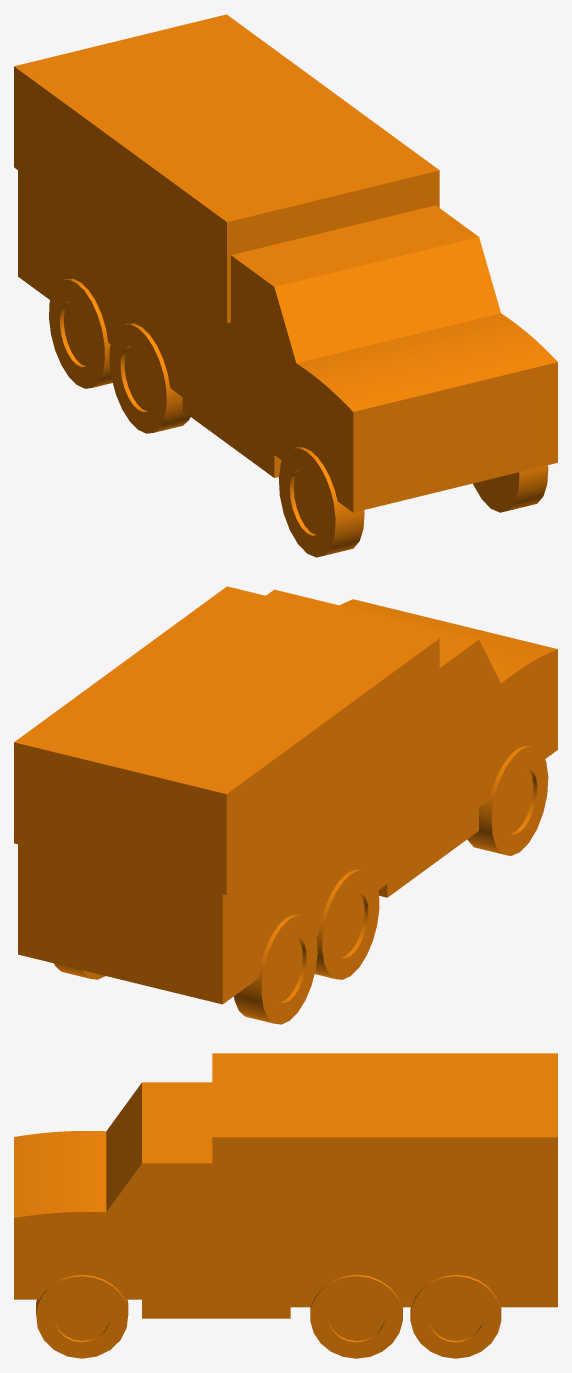
File: Game_Piece_Troop_3_Orange_01.fbx
The picture shows the model from 3 angles, top to bottom: view 1: azimuth 30°, elevation 25°; view 2: azimuth 150°, elevation 25°; view 3: azimuth 270°, elevation 25°; orthographic projection. The views are drawn at different scales.
Visible parts, largest first — view 1: Game_Piece_Troop_3_Orange_01; view 2: Game_Piece_Troop_3_Orange_01; view 3: Game_Piece_Troop_3_Orange_01.
Boxes of the visible parts, x1,y1,x2,y2 form: Game_Piece_Troop_3_Orange_01: (14,14,557,557); Game_Piece_Troop_3_Orange_01: (14,586,557,1024); Game_Piece_Troop_3_Orange_01: (14,1053,557,1358).
Size of the model in its own units: 10.54 by 12.92 by 28.79.
